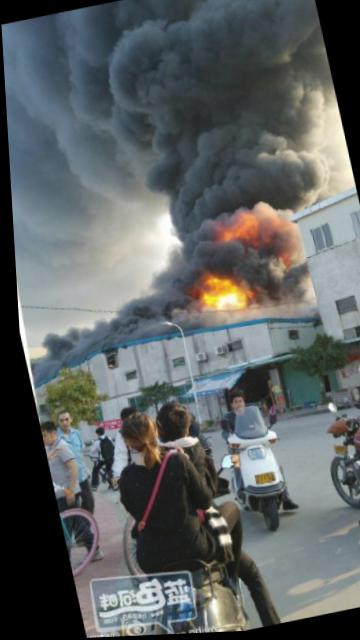fire: (192, 273, 247, 315), (215, 214, 256, 246)
